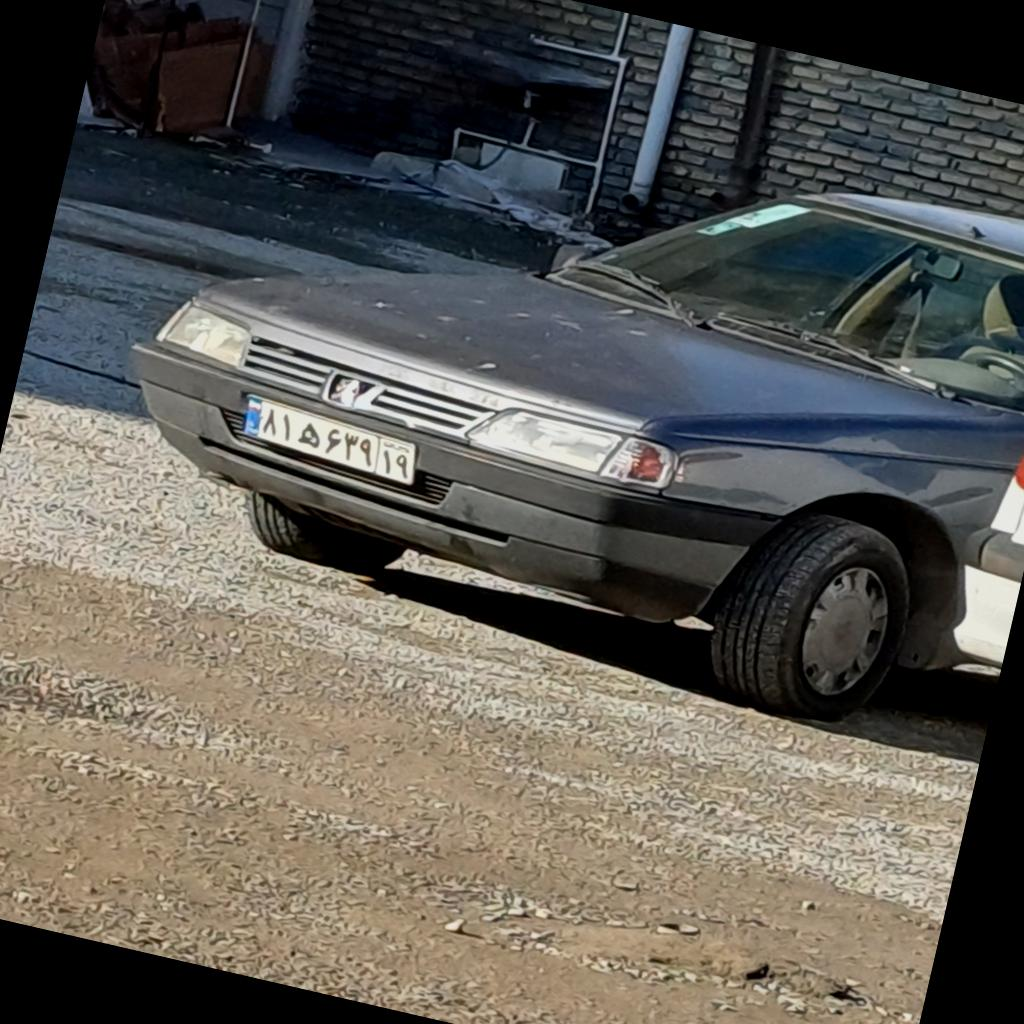Plates: (236, 394, 422, 482)
